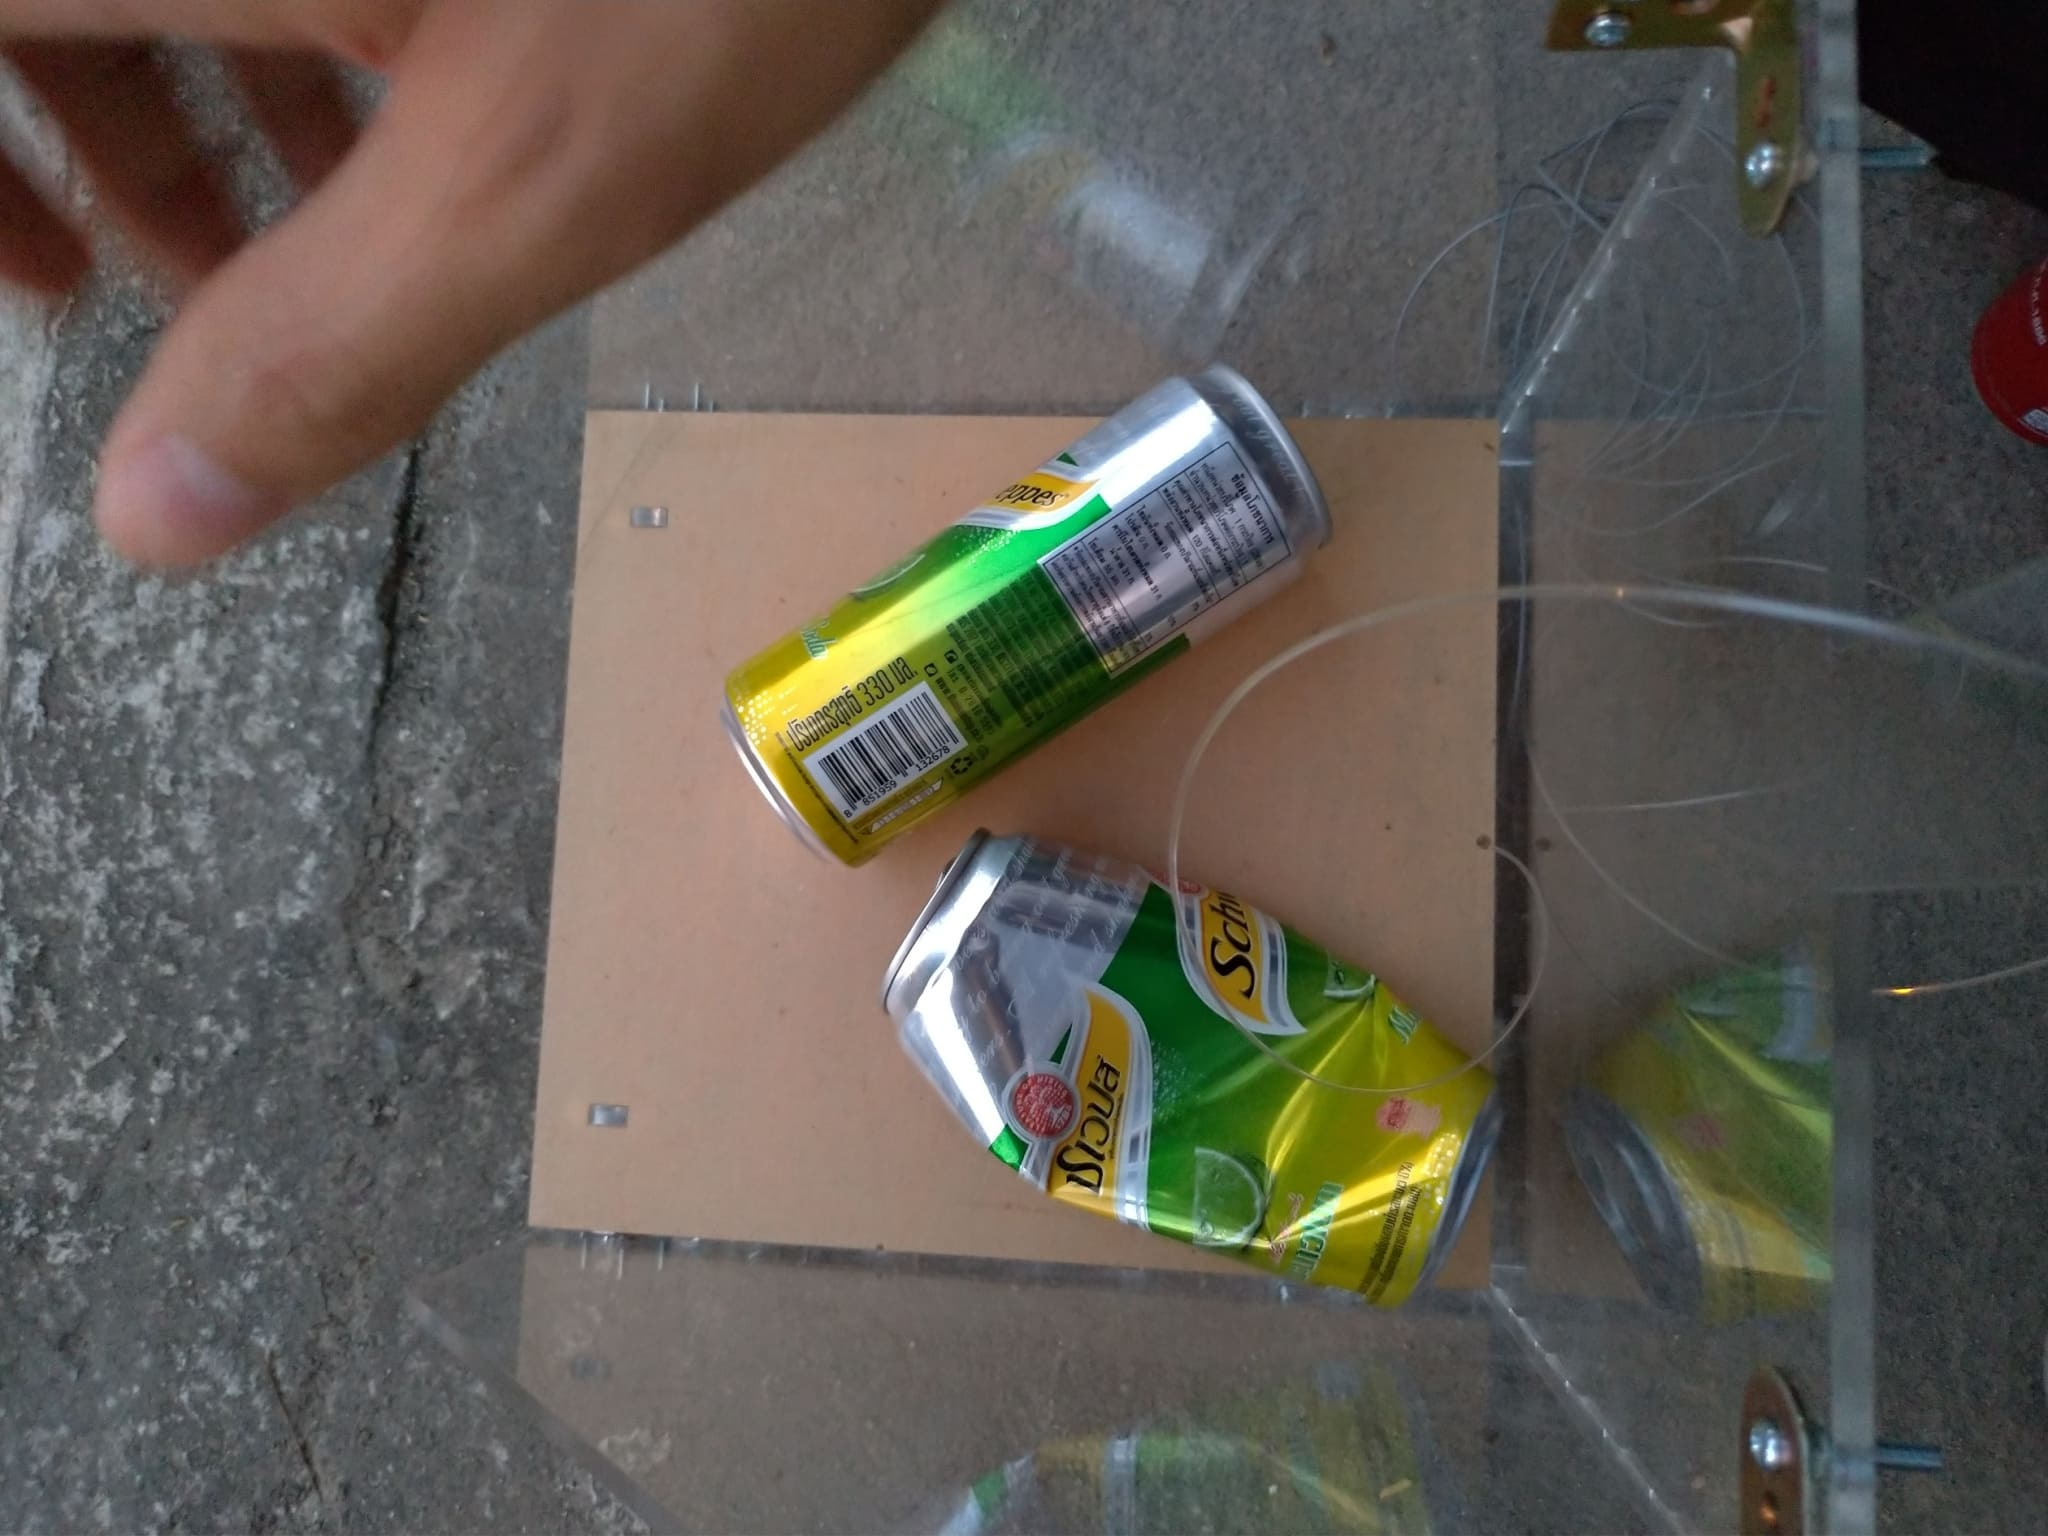AlCan: (722, 366, 1329, 871), (884, 829, 1508, 1300)
